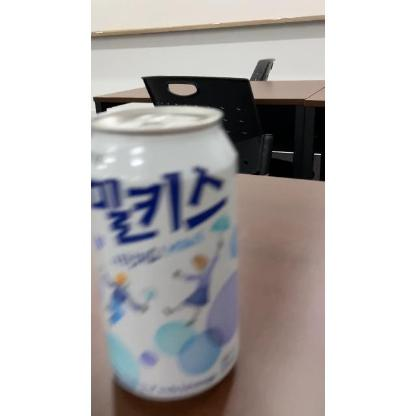Can: (94, 102, 244, 406)
